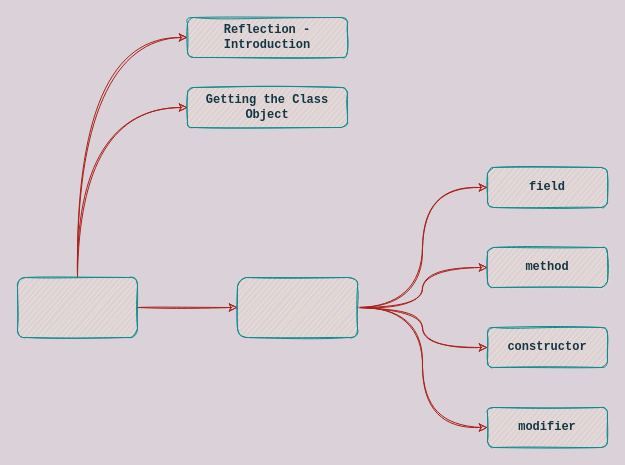
The diagram is 625 pixels wide and 465 high, and some of its shapes have lost their labels. The shapes that lost their labels are listed below. From the top down, each one's centre as x and y in pixels, then its label:
the point at 77,307: Reflection
the point at 297,307: Classes under java.lang.reflect
